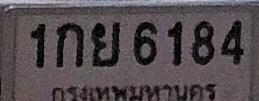1: (167, 20, 182, 66), (30, 23, 45, 68)
4: (220, 19, 244, 64)
6: (134, 21, 156, 65)
8: (191, 20, 214, 65)
A01: (56, 22, 84, 67)
A34: (91, 22, 120, 66)
BKK: (49, 81, 219, 101)
